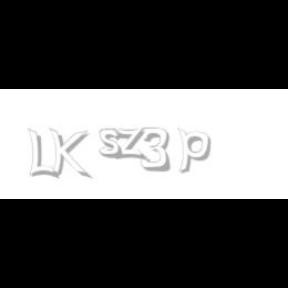3: (140, 128, 171, 172)
K: (49, 128, 89, 180)
L: (28, 128, 56, 180)
p: (178, 128, 215, 174)
s: (99, 128, 127, 160)
z: (113, 128, 149, 160)
